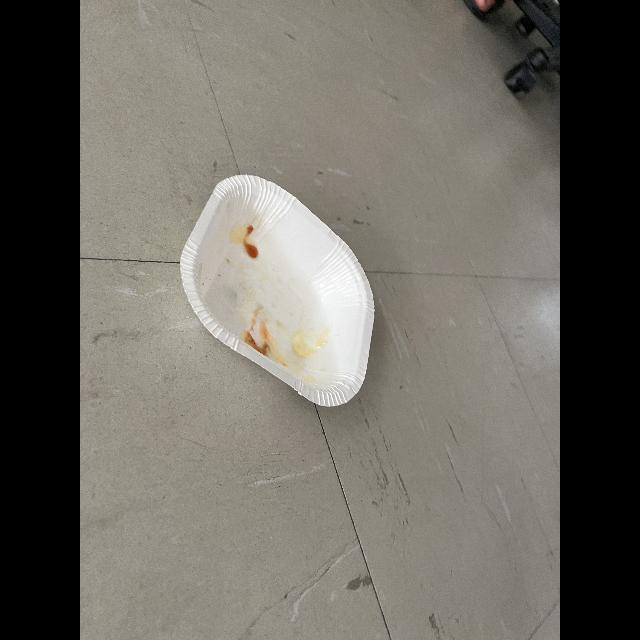cardboard_bowl: (163, 168, 401, 414)
